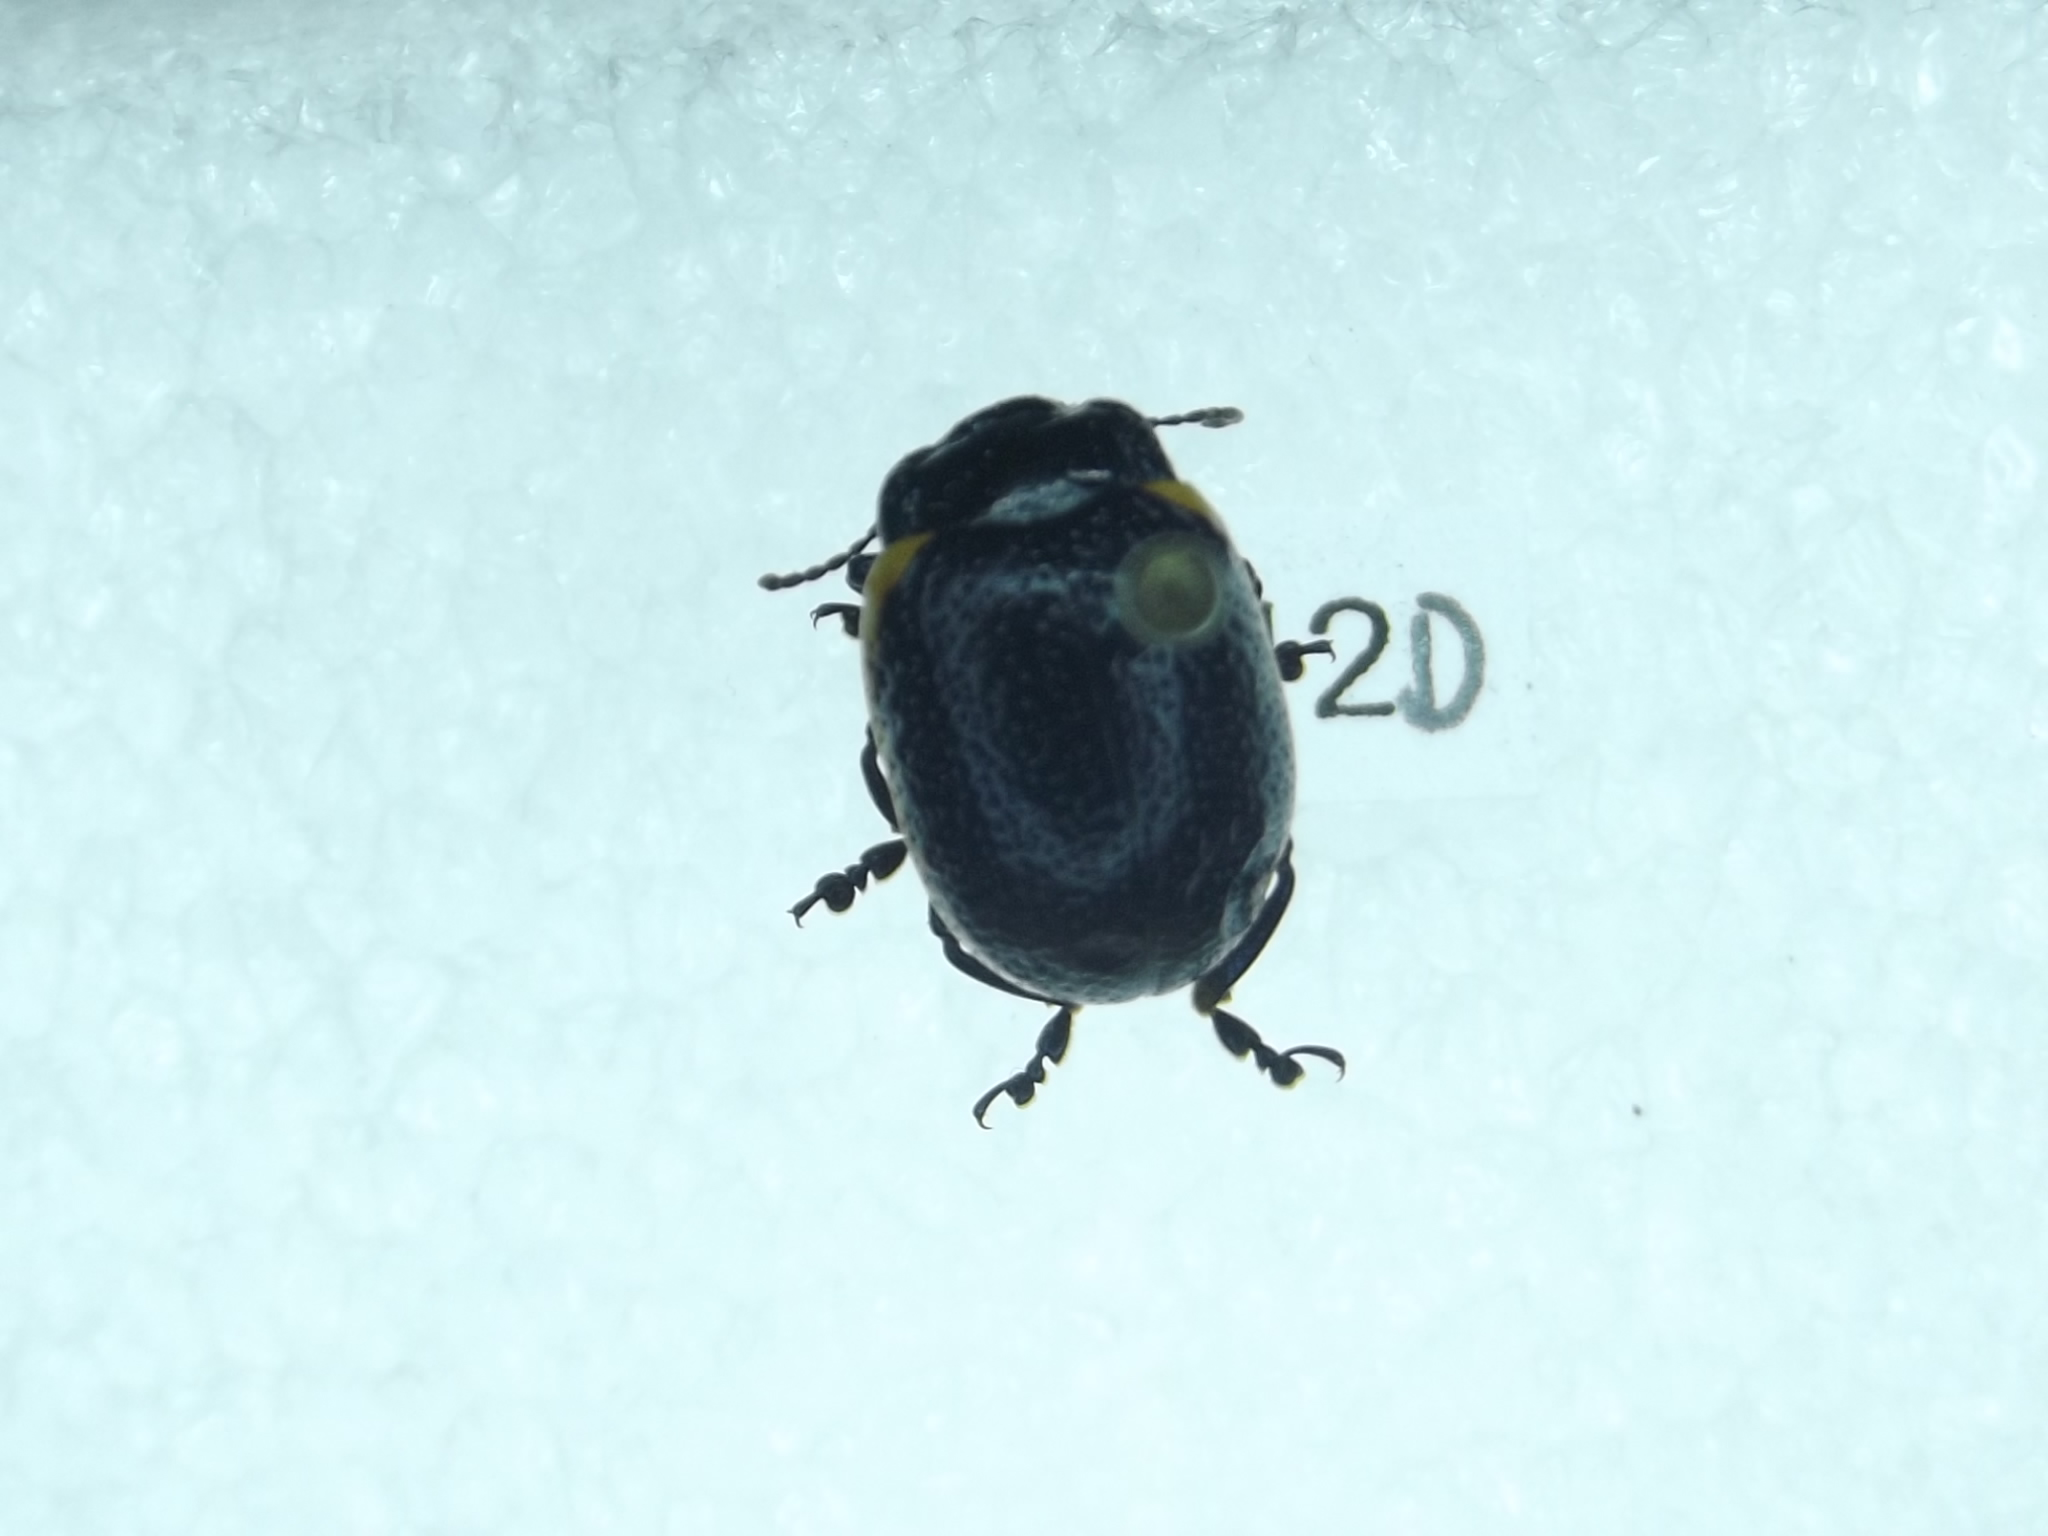Chrysolina_gypsophila: (756, 374, 1364, 1133)
